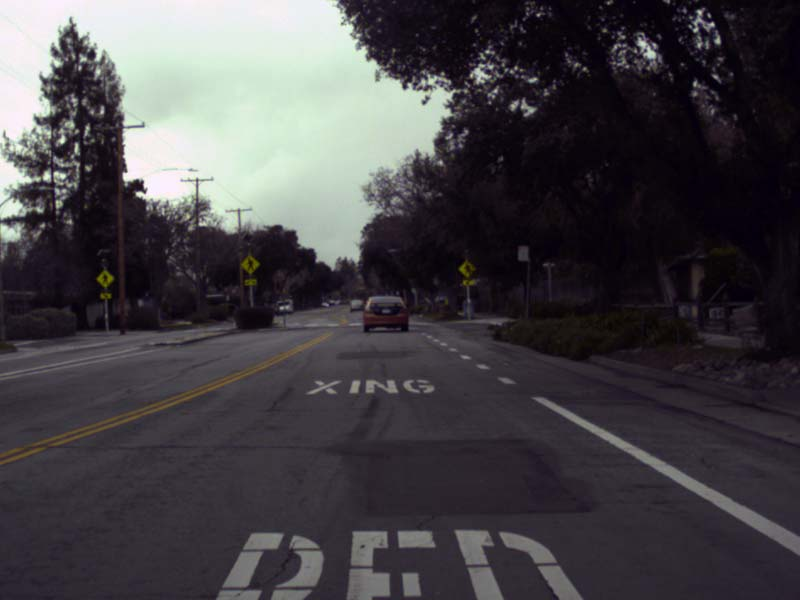Red: (362, 284, 365, 291)
